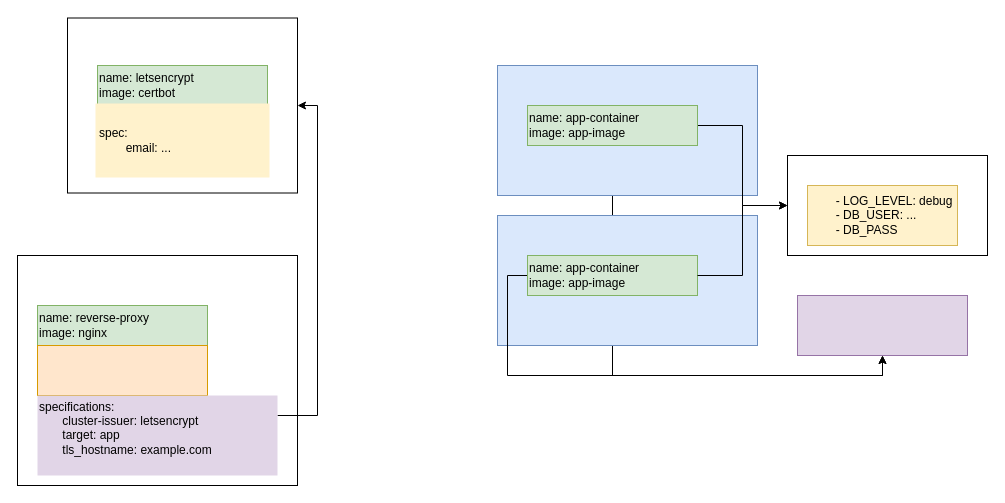
Image size: 1005x503. Some labels were removed from this diagram. The shapes that lost their labels are listed below. From the top down, each one's centre as x and y in pixels, then its label:
At point (882, 325): "volumes: - ./data/:/app/data".
At point (122, 370): "ports: - 443:443 - 80: 80".
